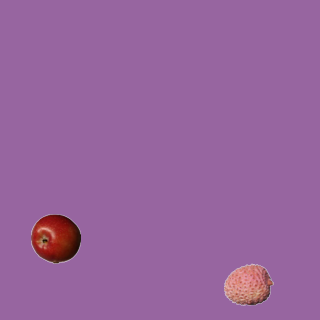Apple Braeburn: (30, 213, 80, 263)
Lychee: (223, 259, 273, 309)
